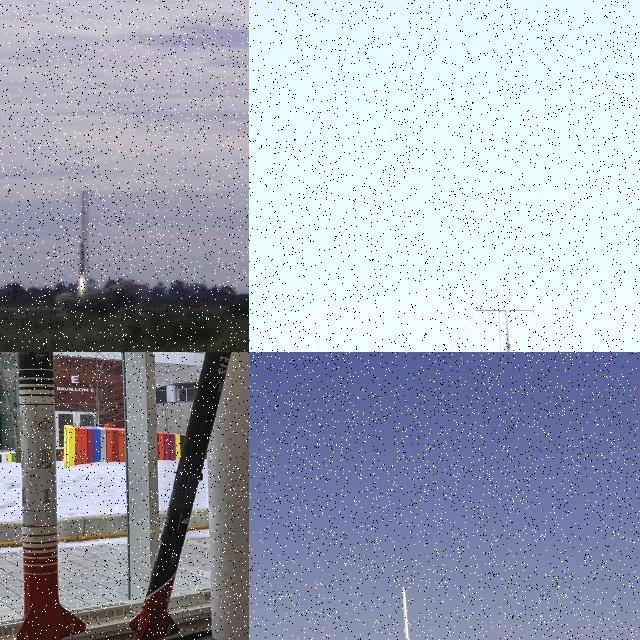Rocket: (128, 352, 232, 640), (16, 352, 86, 640), (400, 586, 413, 640), (77, 242, 86, 276)
